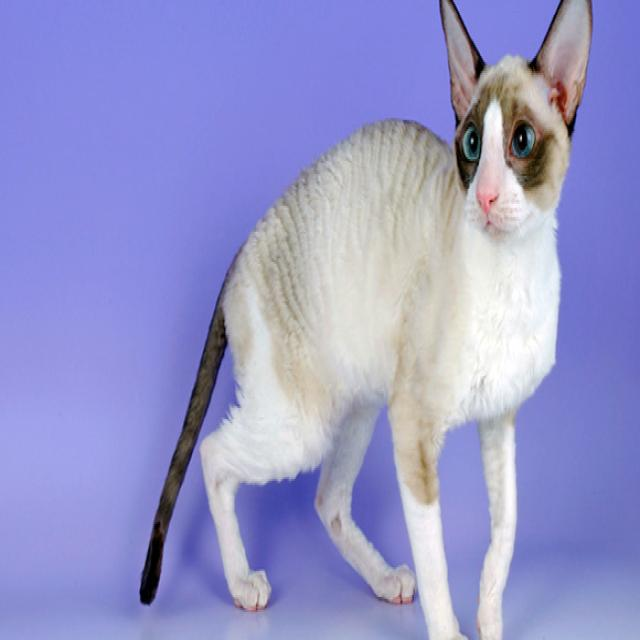Cornish Rex: (136, 0, 597, 640)
